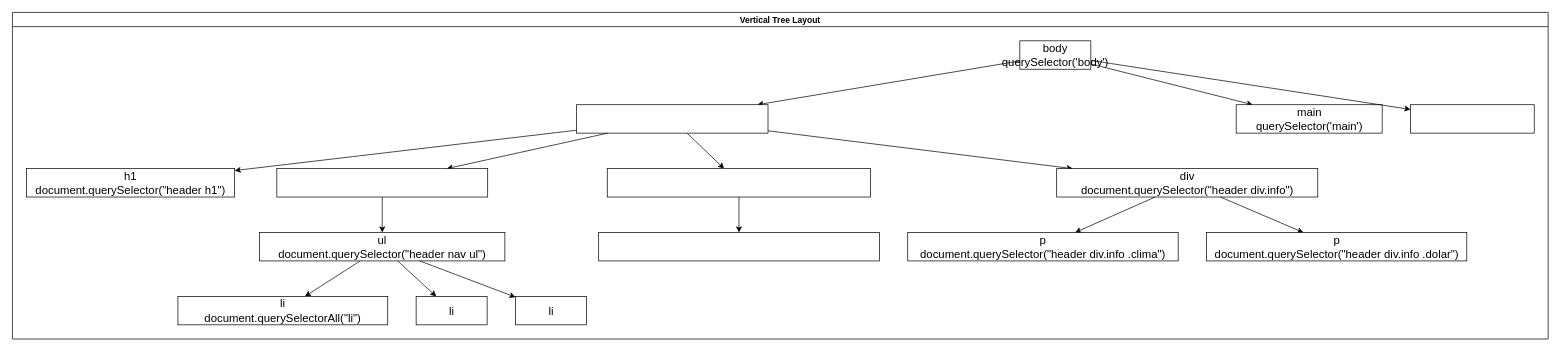
The diagram is 1561 pixels wide and 351 high, and some of its shapes have lost their labels. The centre of each missing label's shape, as x and y in pixels:
button document.querySelector("header div.tema button"): pixel 738 246
div document.querySelector("header div.tema"): pixel 739 182
footer querySelector('footer'): pixel 1472 118
header querySelector('header'): pixel 672 118
nav document.querySelector("header nav"): pixel 382 182
